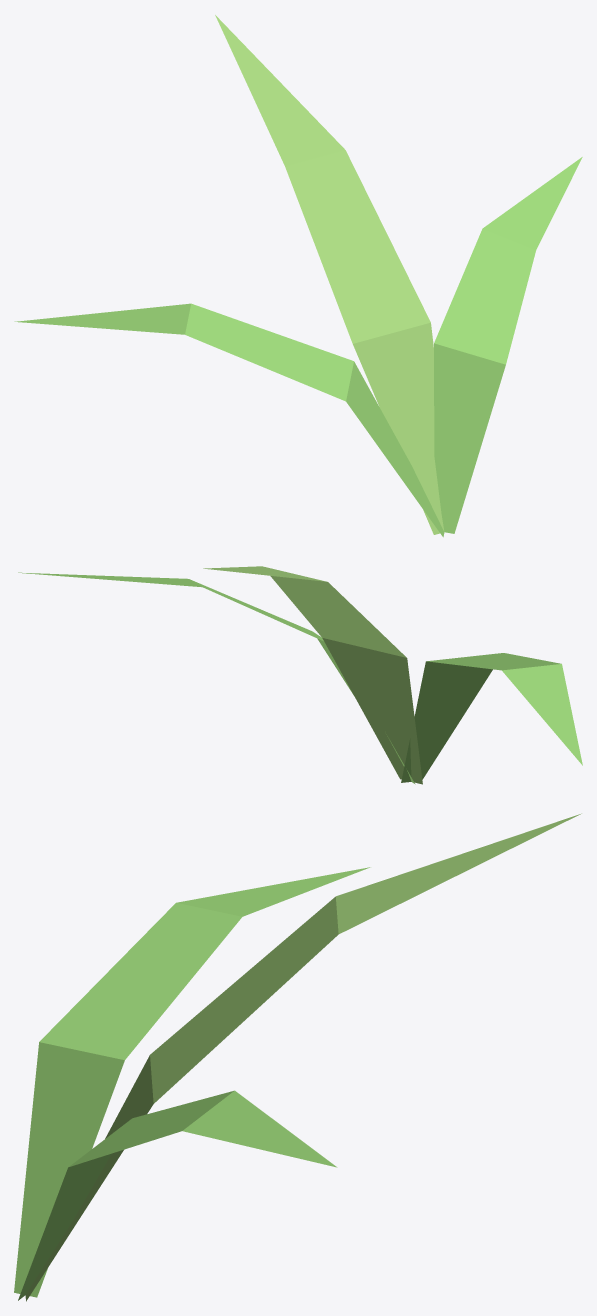
File: Plant_e_OneS_03.fbx
3 views of the same model, one above another, from view 1: azimuth 30°, elevation 25°; view 2: azimuth 150°, elevation 25°; view 3: azimuth 270°, elevation 25° (orthographic). The views are drawn at different scales.
Visible parts, largest first — view 1: Plant_e_OneS_03; view 2: Plant_e_OneS_03; view 3: Plant_e_OneS_03.
Part boxes in pixels (left/top/right/bottom): Plant_e_OneS_03: left=14, top=15, right=582, bottom=537; Plant_e_OneS_03: left=18, top=566, right=582, bottom=784; Plant_e_OneS_03: left=14, top=813, right=581, bottom=1301.
Size of the model in its own units: 0.6634 by 0.4169 by 0.4533.
